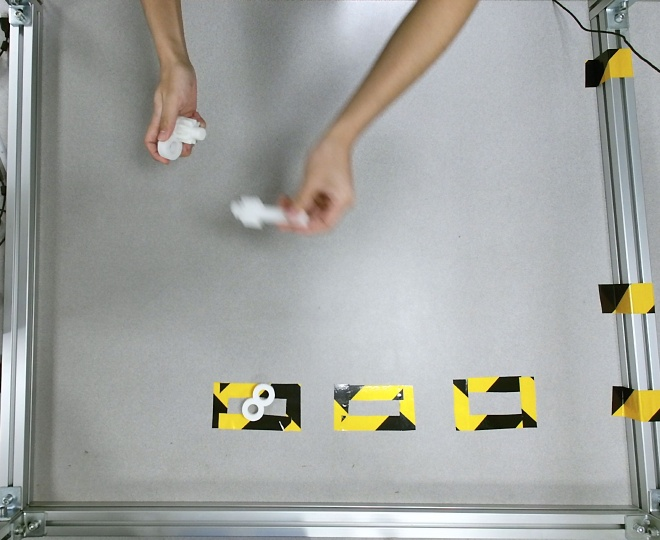stage_2: (157, 117, 207, 159)
